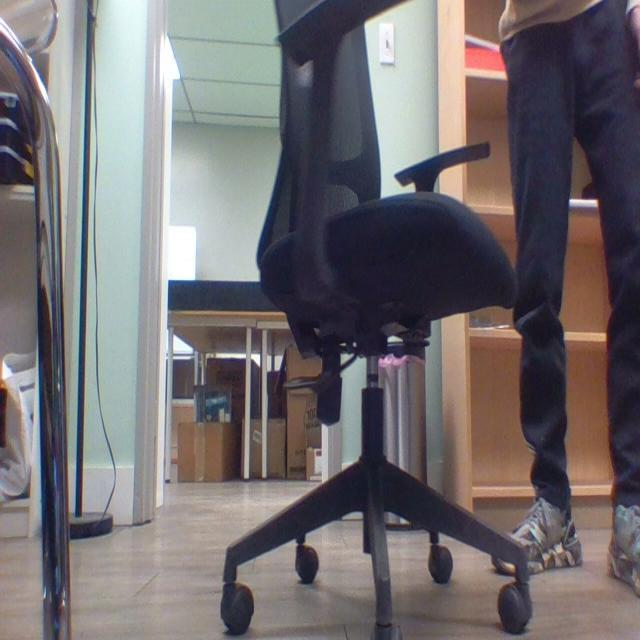chair: (216, 1, 534, 639)
